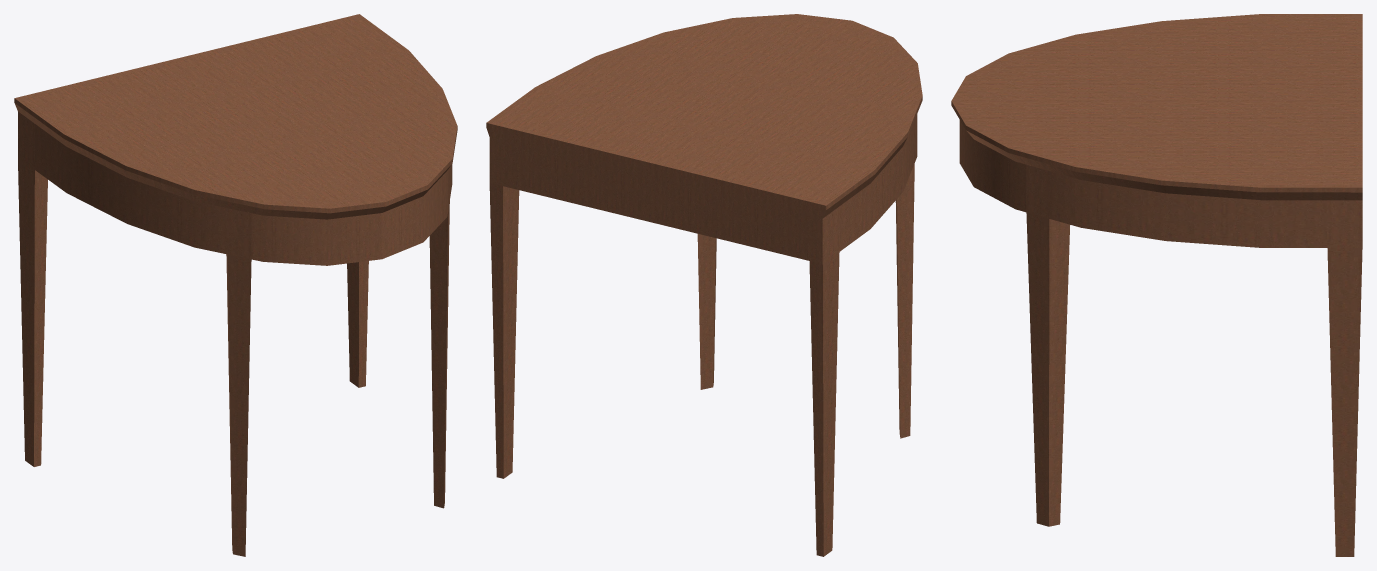
The model's file is sh-contrib-table-half-round.glb.
The picture shows the model from 3 angles, left to right: view 1: azimuth 30°, elevation 25°; view 2: azimuth 150°, elevation 25°; view 3: azimuth 270°, elevation 25°; orthographic projection. The views are drawn at different scales.
Visible parts, largest first — view 1: 1_1; view 2: 1_1; view 3: 1_1.
Boxes of the visible parts, bbox=[...] form: 1_1: bbox=[14, 14, 457, 556]; 1_1: bbox=[486, 14, 922, 556]; 1_1: bbox=[951, 14, 1362, 556].
Size of the model in its own units: 1 by 1 by 1.
1 material, 1 textured.
